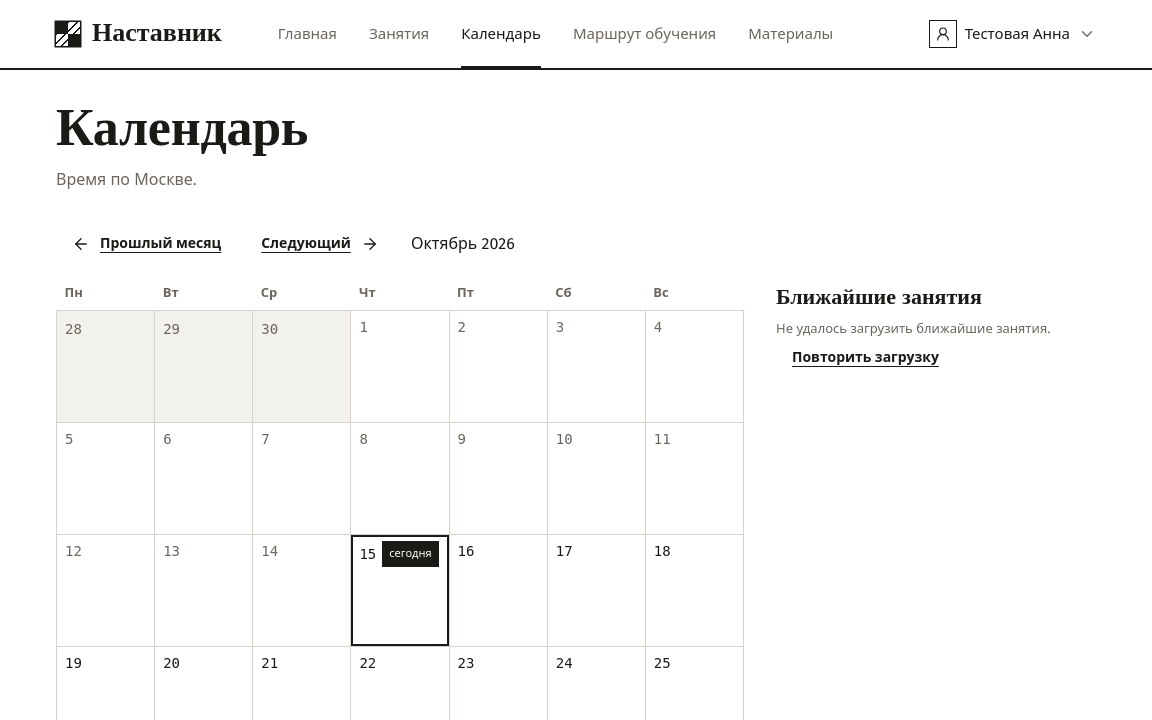
Scenario: Student calendar › says when the next lessons could not be read and reads them again
Expected: the element with class "upcoming" shows "Не удалось загрузить ближайшие занятия.", [776,321,1050,336]
Click the button "Повторить загрузку" at [865, 358], box [776,338,955,378]
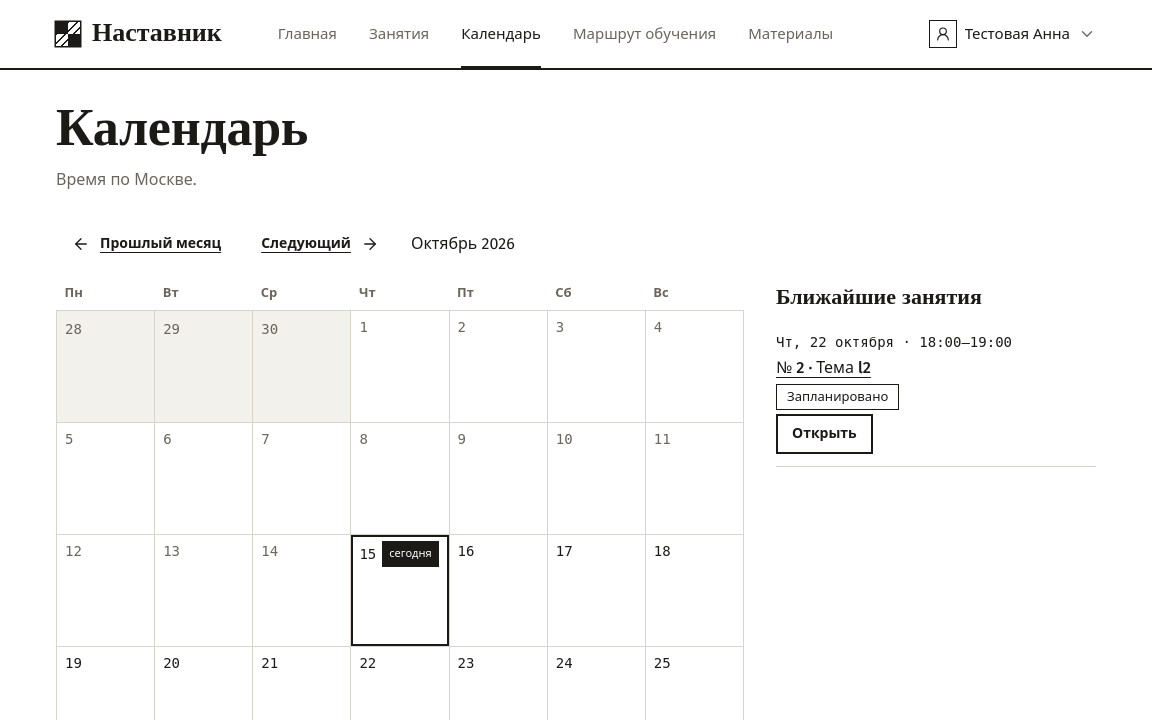
Now the element with class "upcoming" shows "№ 2 · Тема l2", box [776,358,871,377]
